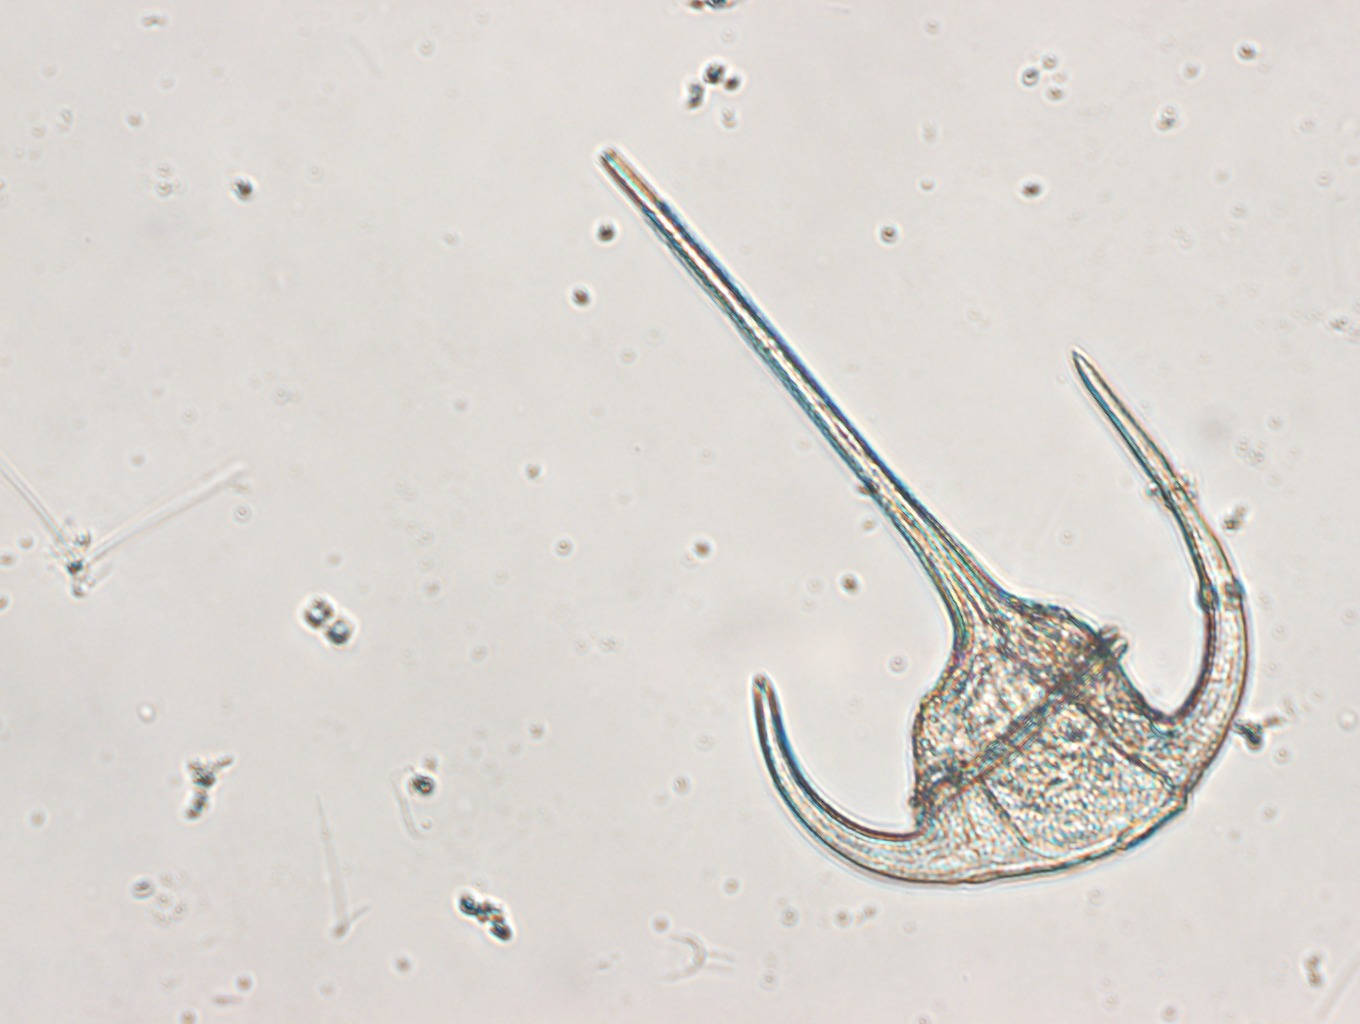ceratium tripos: (589, 137, 1256, 886)
